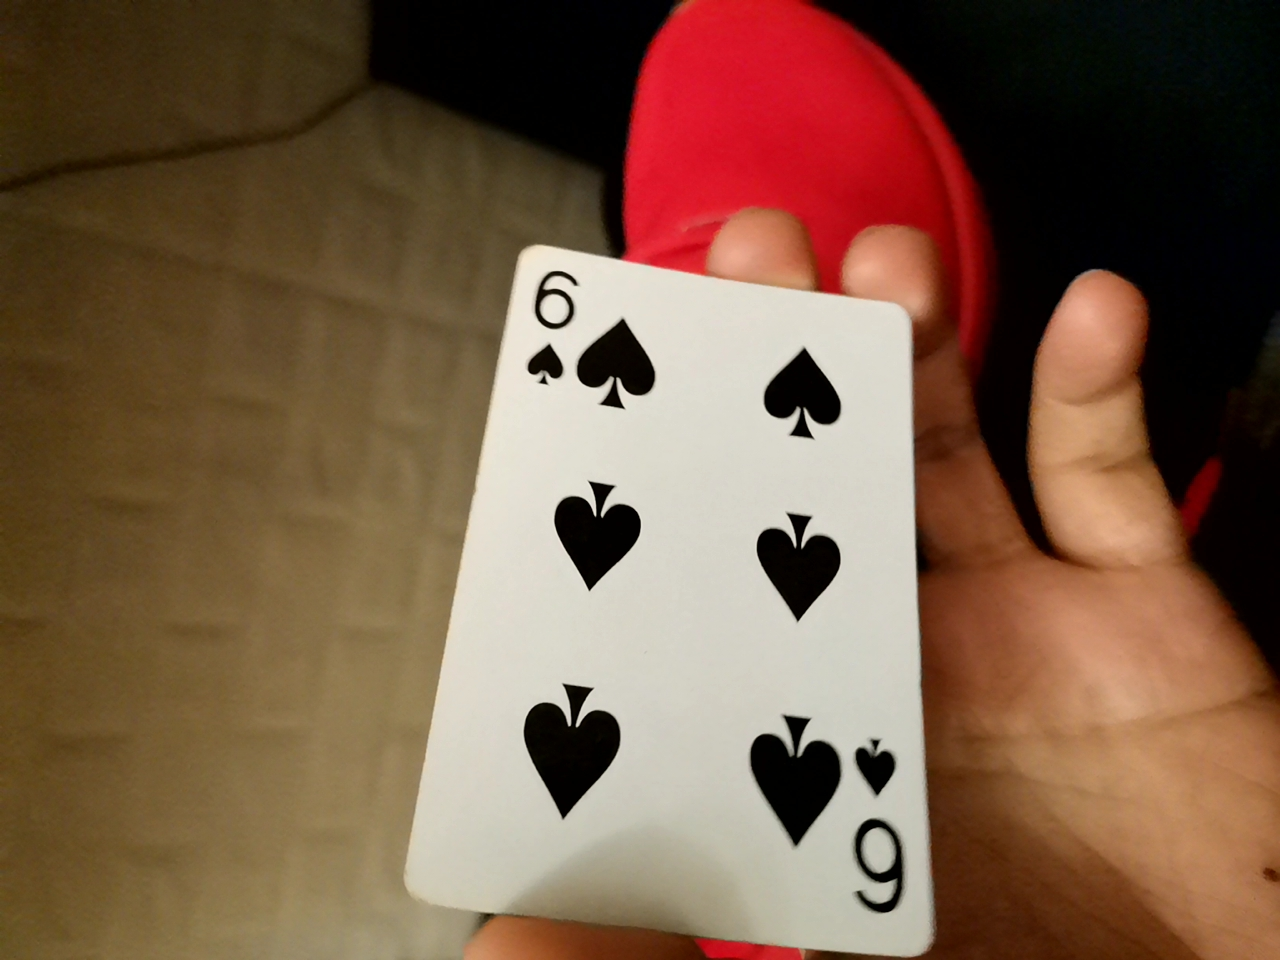ht 6: (396, 240, 952, 955)
